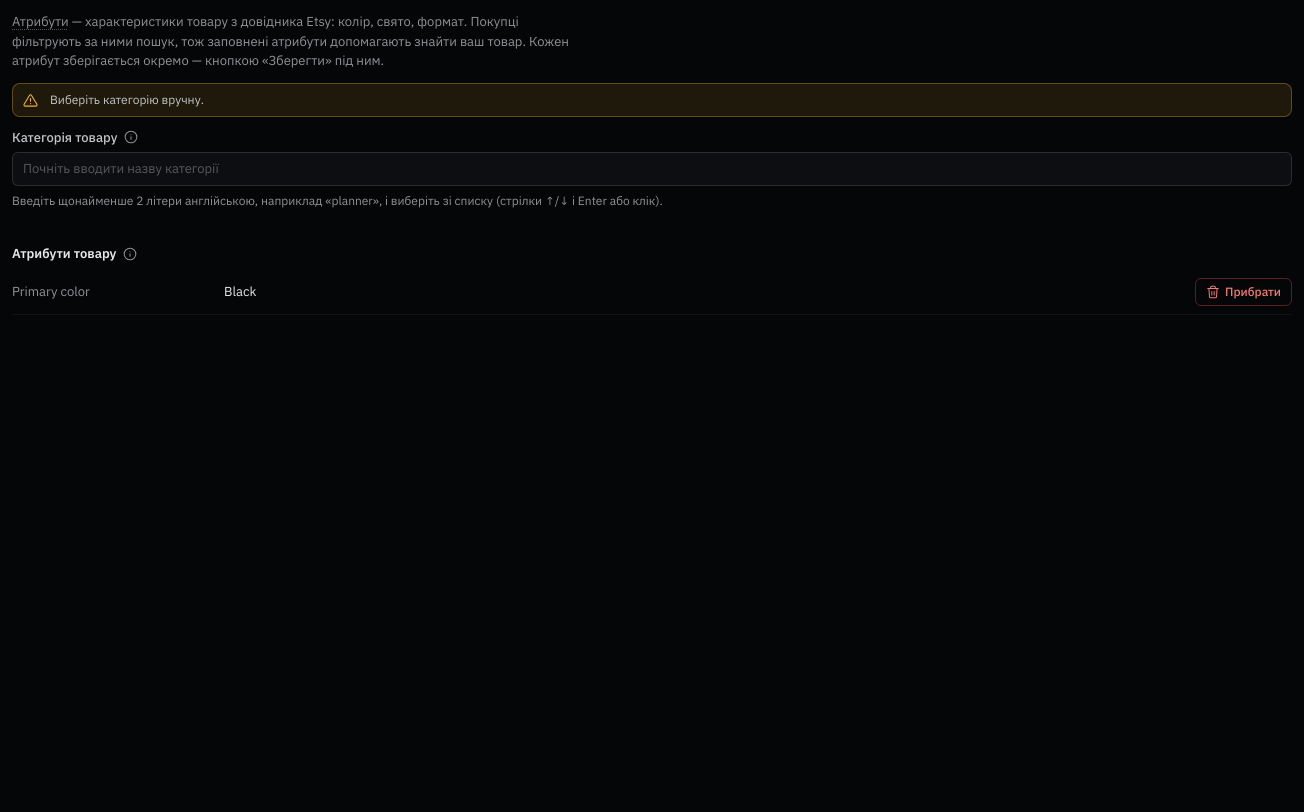
Test: Атрибути › no category known: the note + a category picker; picking reloads with that category
Check: the text "Виберіть категорію вручну." is shown, box [50, 92, 204, 106]
Check: the list with test id "lm-other-props" shows "Primary color", box [12, 283, 90, 300]
In the dropdown labelled "Категорія товару": (652, 169) [12, 152, 1292, 186], type "plan"
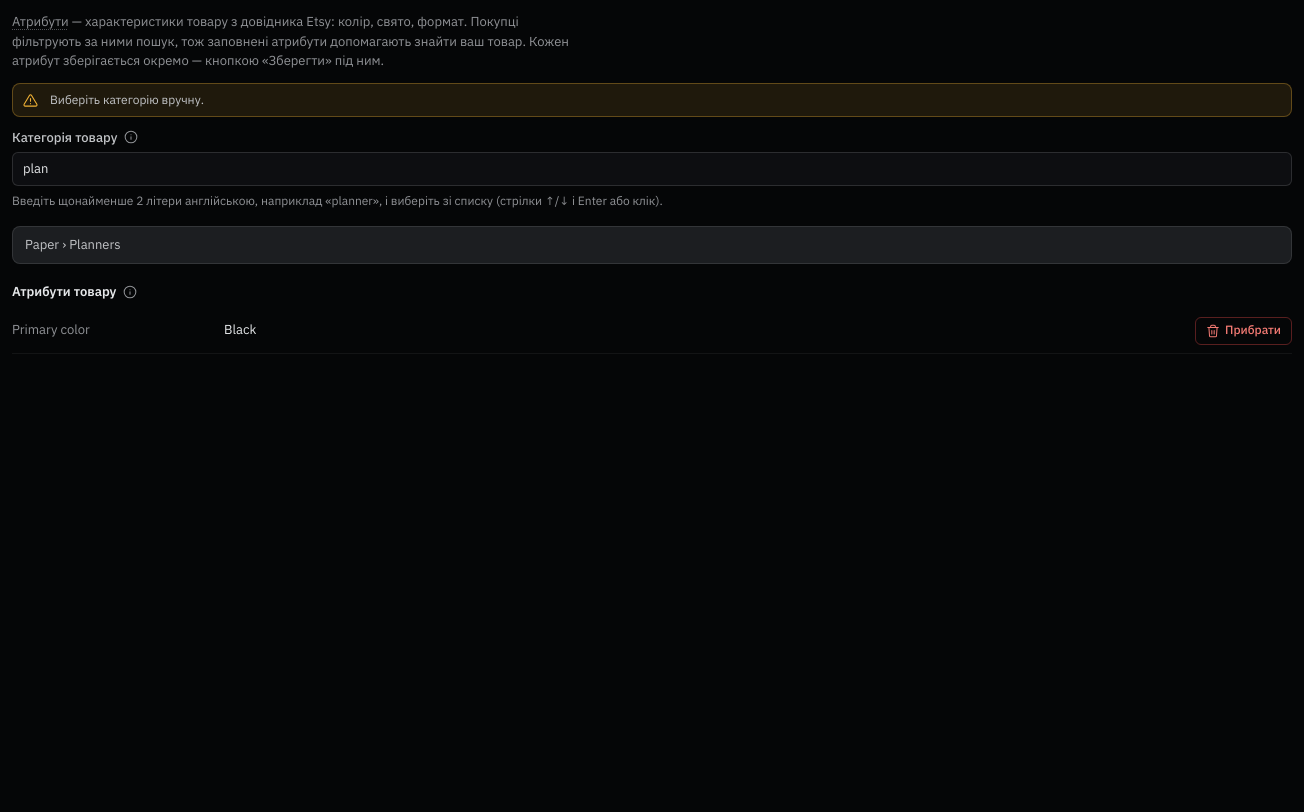
Click the option "Paper › Planners": click(73, 244) [25, 236, 121, 253]
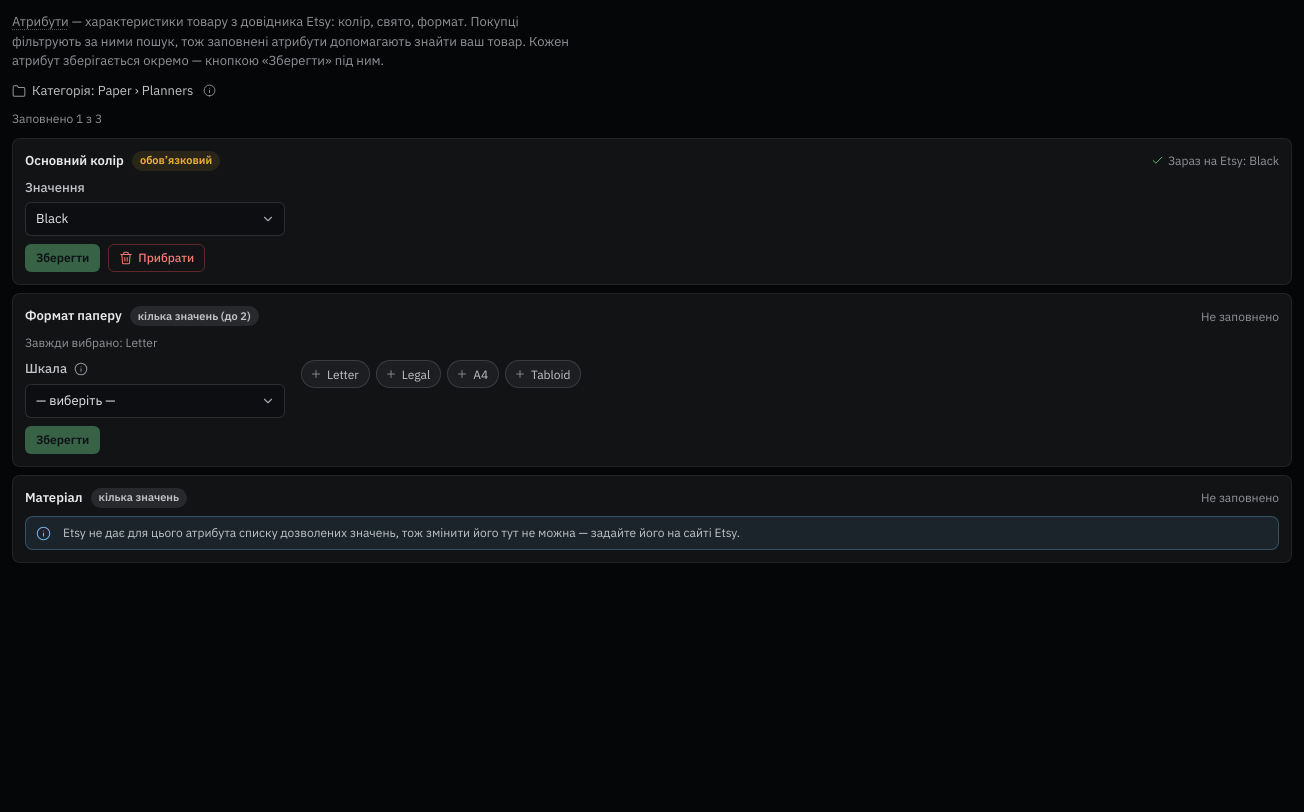
Check: the element with test id "lm-attributes" shows "Категорія: Paper › Planners"
